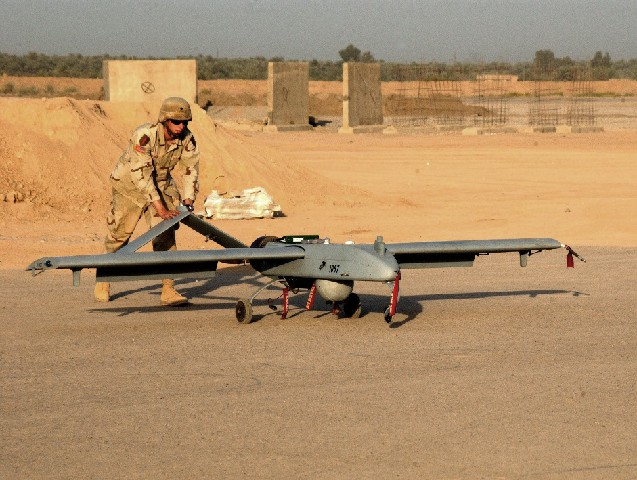maybay_khongnguoilai: (30, 198, 567, 333)
